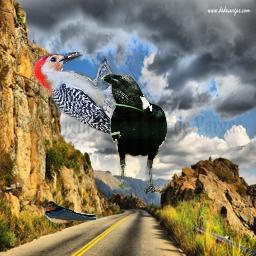Crow: (100, 73, 167, 194)
Swallow: (43, 200, 107, 225)
Woodpecker: (34, 52, 159, 154)
